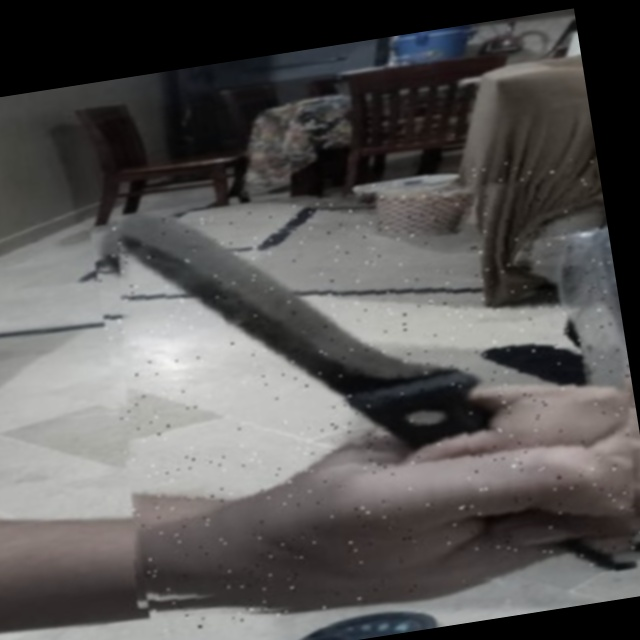Sharp-Object: (89, 149, 640, 634)
